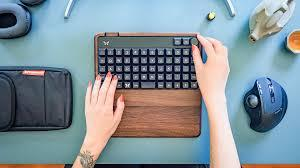keyboard: (93, 31, 205, 90)
